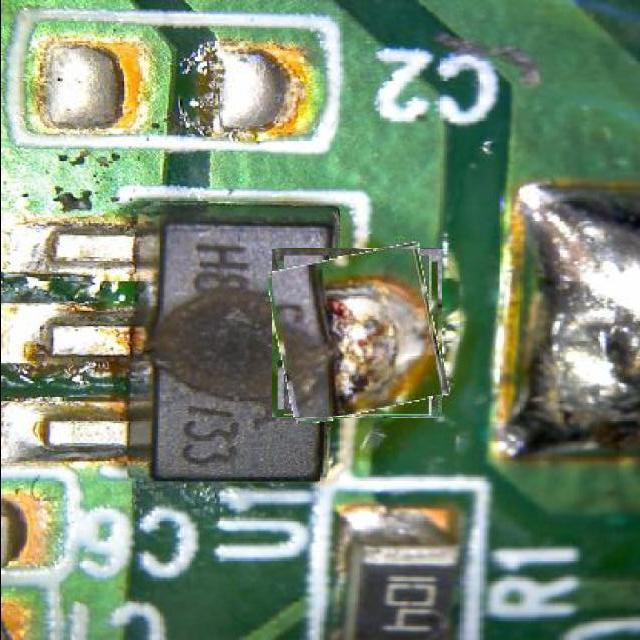damged: (273, 248, 442, 418)
